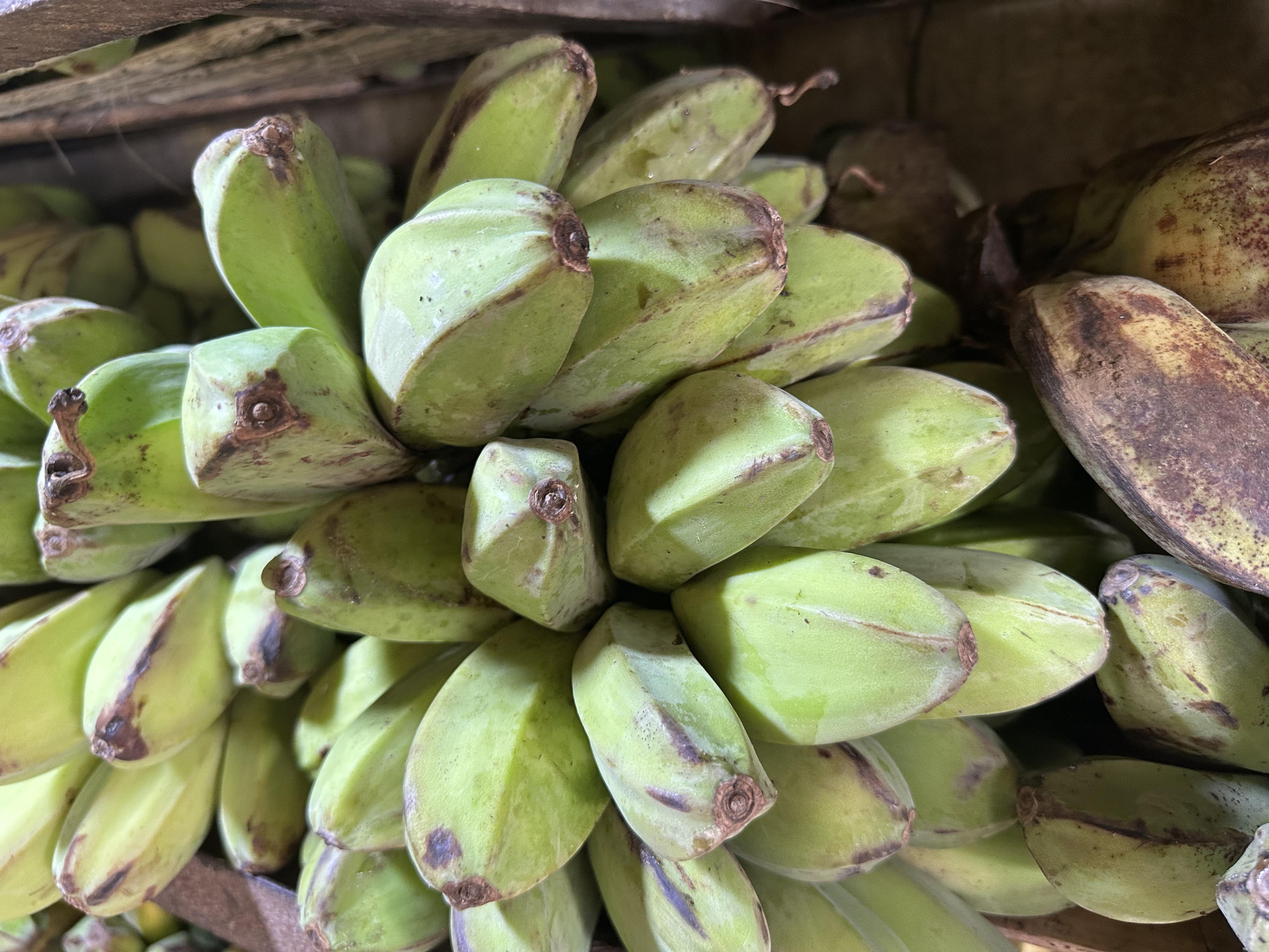underripe: (277, 366, 1109, 909), (39, 34, 914, 526), (296, 719, 1068, 952), (0, 545, 340, 921)
